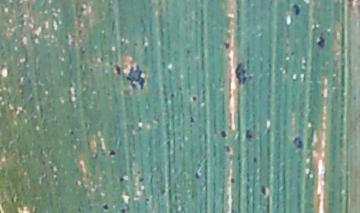tarspot: (126, 62, 146, 92), (234, 62, 253, 86), (291, 135, 304, 149), (315, 34, 326, 50), (291, 2, 301, 18), (112, 63, 122, 77), (258, 184, 267, 198), (77, 44, 87, 56), (244, 128, 253, 141), (223, 143, 232, 154), (107, 148, 116, 158), (77, 62, 85, 73), (222, 41, 231, 50), (219, 129, 227, 139), (193, 171, 201, 180), (101, 203, 110, 211), (159, 188, 166, 198), (188, 116, 196, 124), (131, 40, 139, 48), (79, 5, 87, 13), (229, 176, 236, 185), (76, 28, 83, 37), (143, 197, 151, 204), (169, 92, 176, 100), (136, 125, 143, 133), (137, 176, 144, 183), (87, 66, 94, 73), (63, 33, 70, 40), (191, 94, 197, 102), (185, 48, 191, 56), (98, 55, 104, 63), (252, 155, 257, 164), (68, 129, 74, 136), (120, 206, 126, 213), (118, 176, 124, 183), (76, 206, 82, 213), (289, 50, 296, 56), (137, 117, 143, 124), (118, 39, 125, 45)
